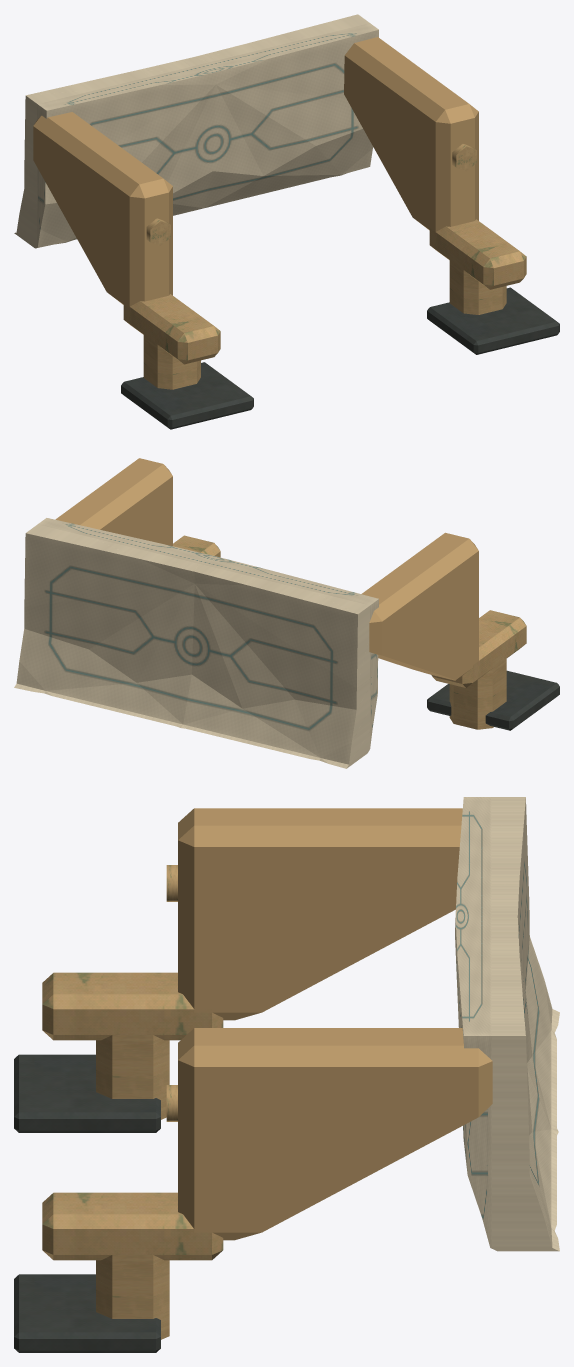
The model's file is Wako_backpack_current.glb.
3 views of the same model, one above another, from view 1: azimuth 30°, elevation 25°; view 2: azimuth 150°, elevation 25°; view 3: azimuth 270°, elevation 25° (orthographic). The views are drawn at different scales.
Visible parts, largest first — view 1: RootSeat, BronzeSocket, _MeshInstance3D_58, _MeshInstance3D_61, RubberSeat, CradleArm, _MeshInstance3D_59, _MeshInstance3D_60, DropArm, _MeshInstance3D_57, _MeshInstance3D_63; view 2: RootSeat, BronzeSocket, _MeshInstance3D_58, RubberSeat, CradleArm, DropArm, _MeshInstance3D_59; view 3: _MeshInstance3D_58, BronzeSocket, RootSeat, _MeshInstance3D_59, CradleArm, _MeshInstance3D_61, RubberSeat, _MeshInstance3D_60, DropArm.
Boxes of the visible parts, left/top/right/bottom form: RootSeat: left=14, top=14, right=378, bottom=248; BronzeSocket: left=33, top=112, right=172, bottom=308; _MeshInstance3D_58: left=344, top=37, right=478, bottom=231; _MeshInstance3D_61: left=427, top=287, right=559, bottom=354; RubberSeat: left=121, top=362, right=253, bottom=429; CradleArm: left=123, top=294, right=220, bottom=364; _MeshInstance3D_59: left=429, top=219, right=526, bottom=289; _MeshInstance3D_60: left=449, top=252, right=506, bottom=314; DropArm: left=143, top=327, right=200, bottom=389; _MeshInstance3D_57: left=146, top=218, right=170, bottom=245; _MeshInstance3D_63: left=452, top=144, right=476, bottom=171; RootSeat: left=14, top=518, right=378, bottom=768; BronzeSocket: left=361, top=532, right=478, bottom=680; _MeshInstance3D_58: left=55, top=458, right=172, bottom=546; RubberSeat: left=427, top=670, right=559, bottom=730; CradleArm: left=431, top=610, right=526, bottom=687; DropArm: left=449, top=656, right=506, bottom=729; _MeshInstance3D_59: left=173, top=535, right=220, bottom=557; _MeshInstance3D_58: left=178, top=1028, right=492, bottom=1240; BronzeSocket: left=178, top=808, right=462, bottom=1020; RootSeat: left=455, top=797, right=559, bottom=1251; _MeshInstance3D_59: left=42, top=1192, right=223, bottom=1260; CradleArm: left=42, top=972, right=223, bottom=1040; _MeshInstance3D_61: left=14, top=1274, right=160, bottom=1352; RubberSeat: left=14, top=1054, right=160, bottom=1132; _MeshInstance3D_60: left=96, top=1243, right=169, bottom=1339; DropArm: left=96, top=1024, right=169, bottom=1119.
Bounding box in the file's own units: 0.59 × 0.295 × 0.4826.
Materials: 3 (3 with a texture image).
